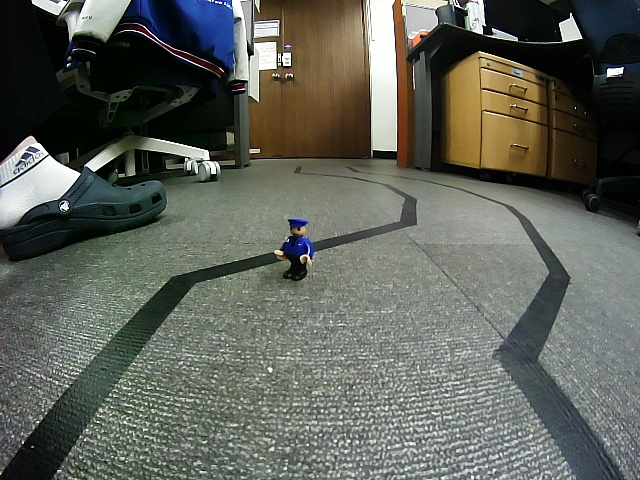person: (274, 219, 314, 282)
